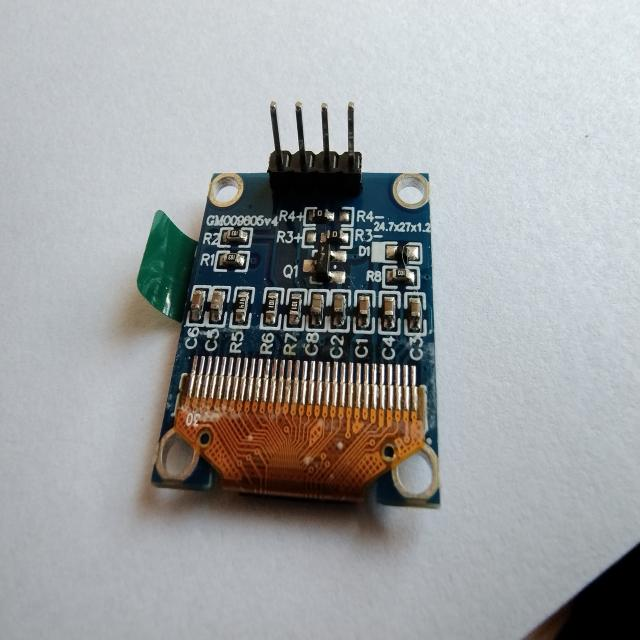oled: (137, 84, 458, 521)
